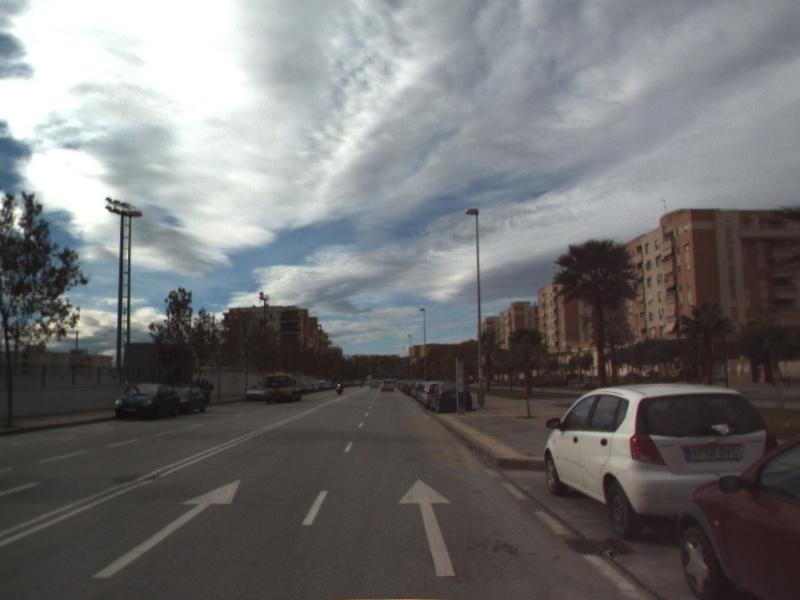STRAIGHT: (91, 477, 243, 580), (395, 476, 458, 578)
